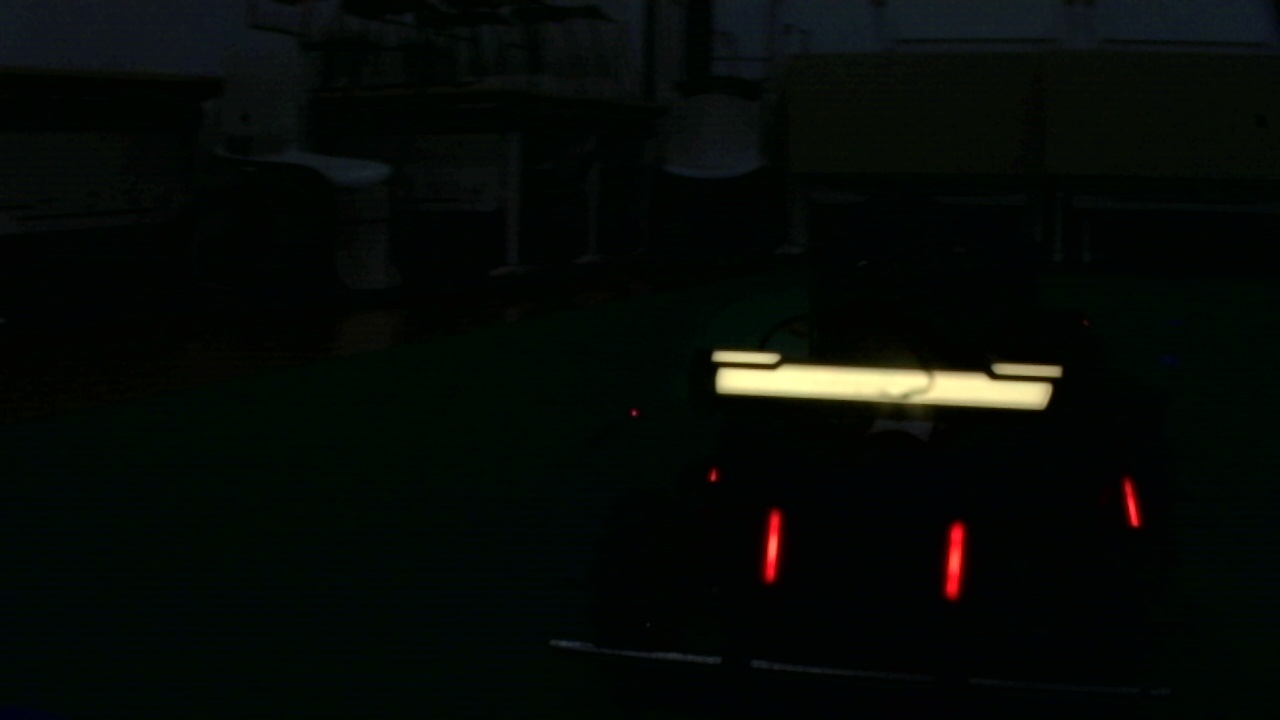lamp: (943, 519, 967, 597), (760, 510, 781, 584), (1119, 474, 1141, 532)
notpair1: (944, 475, 1142, 595)
pair1: (762, 513, 966, 597)
